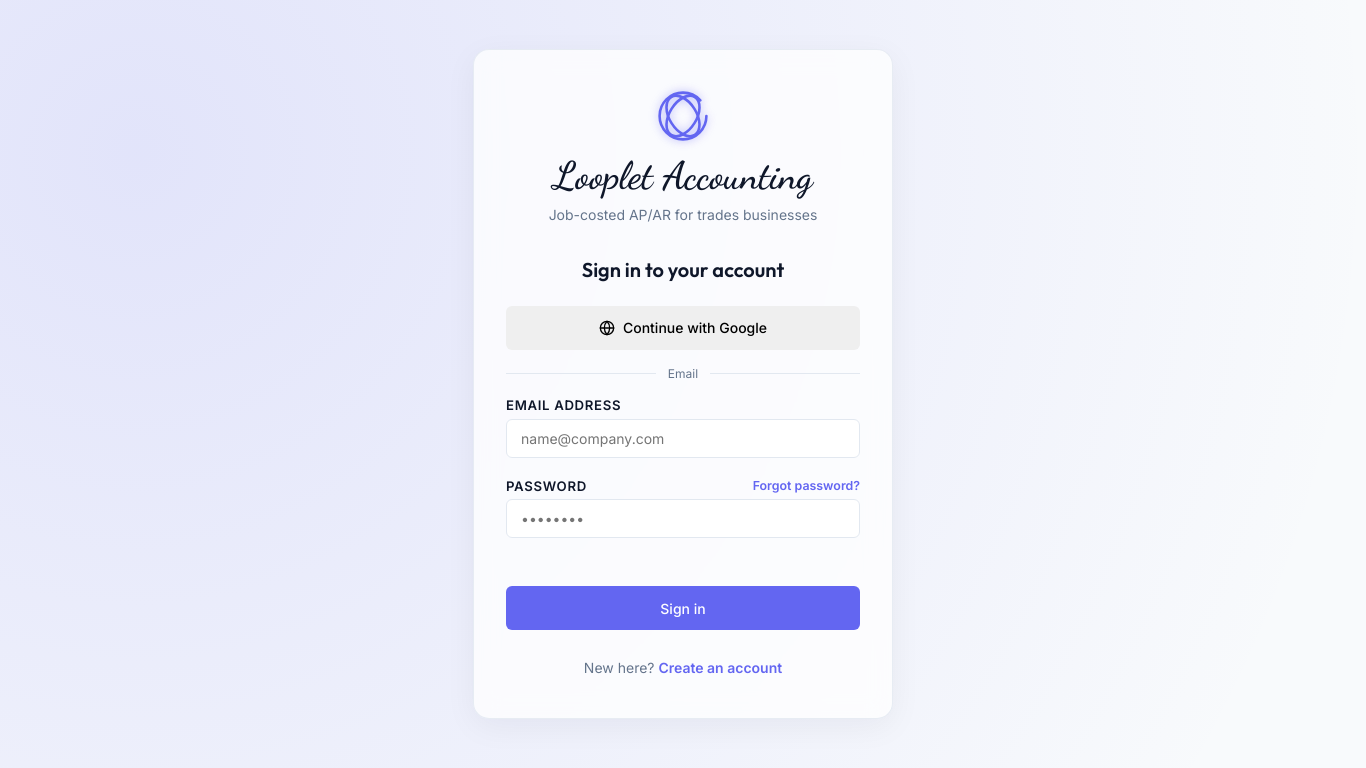
Test: Auth mobile layout › keeps reset-password mode inside the same mobile-safe auth shell
The image size is (1366, 768).
Click the button "Forgot password?" at [806, 486], box [753, 478, 860, 493]
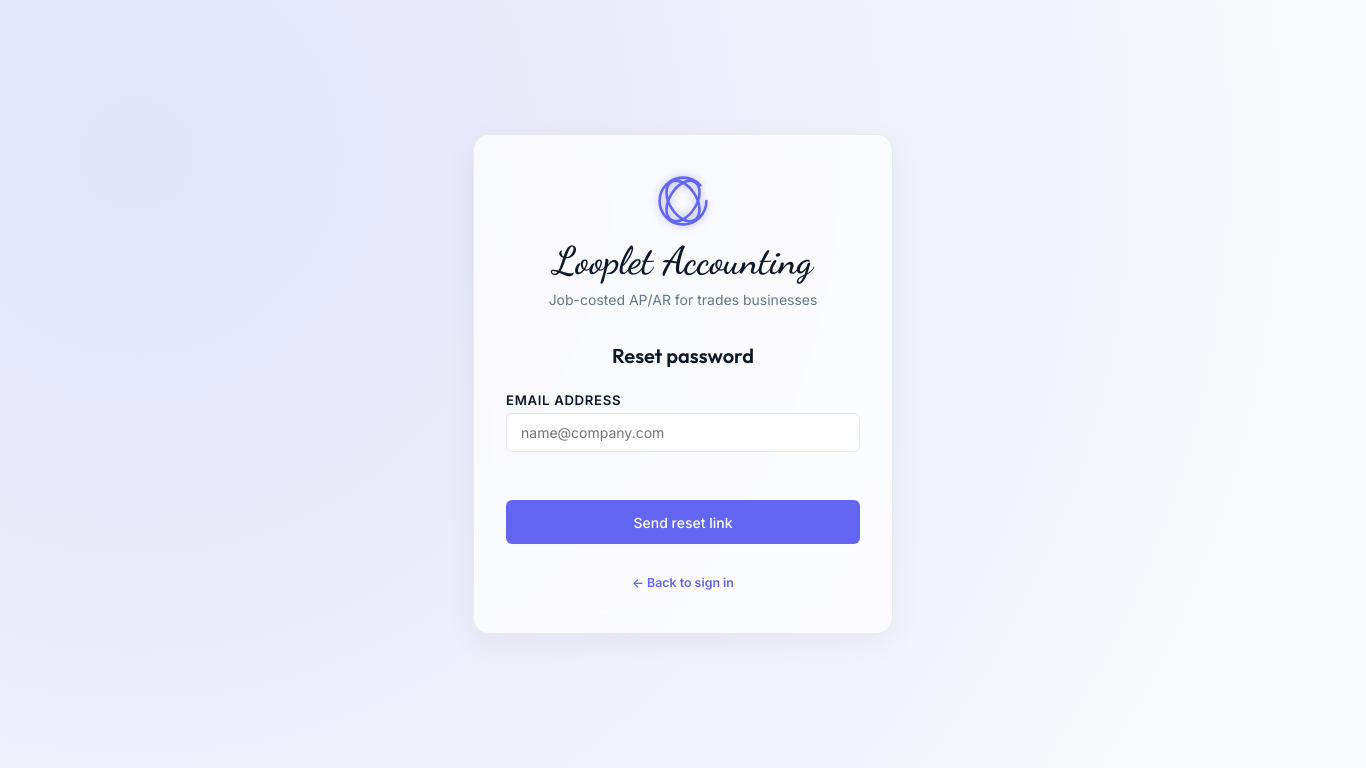
Expected: the element named "reset password" is shown
Expected: the element "Reset password" is shown, [473, 134, 893, 634]
